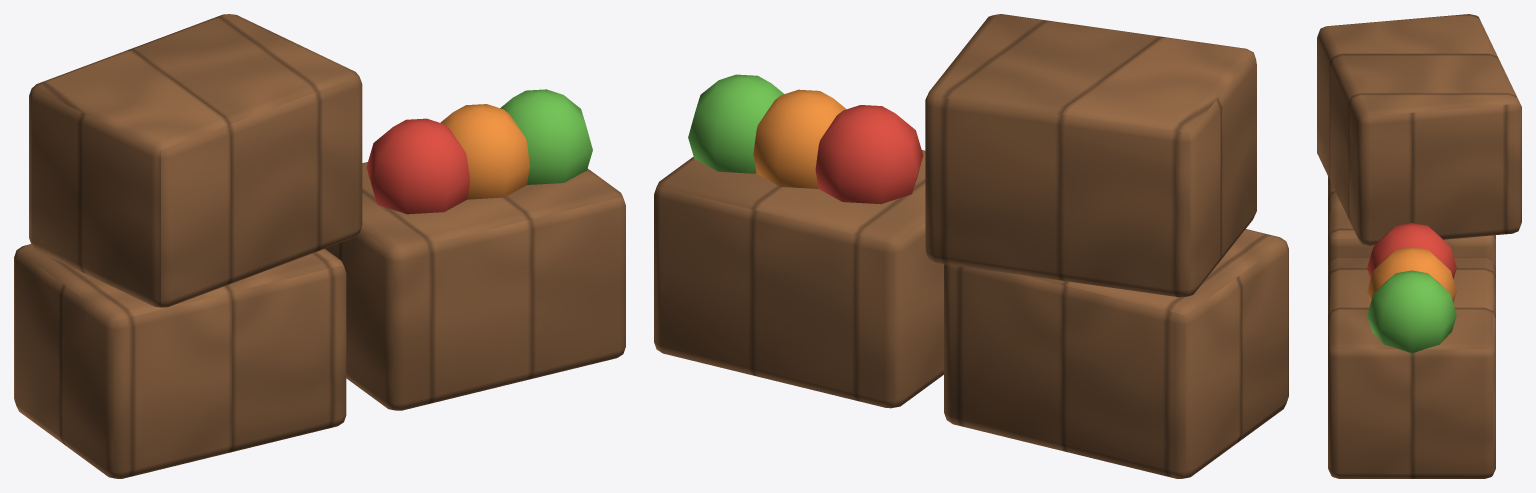
The model's file is crates.gltf.
The picture shows the model from 3 angles, left to right: view 1: azimuth 30°, elevation 25°; view 2: azimuth 150°, elevation 25°; view 3: azimuth 270°, elevation 25°; orthographic projection. The views are drawn at different scales.
Visible parts, largest first — view 1: crates_mesh; view 2: crates_mesh; view 3: crates_mesh.
Part boxes in pixels (x1=…): crates_mesh: x1=14, y1=14, x2=625, y2=478; crates_mesh: x1=654, y1=14, x2=1288, y2=478; crates_mesh: x1=1317, y1=14, x2=1521, y2=478.
Size of what is drawn, in the model's own units: 1.32 by 0.8 by 0.5483.
4 materials, 1 textured.
